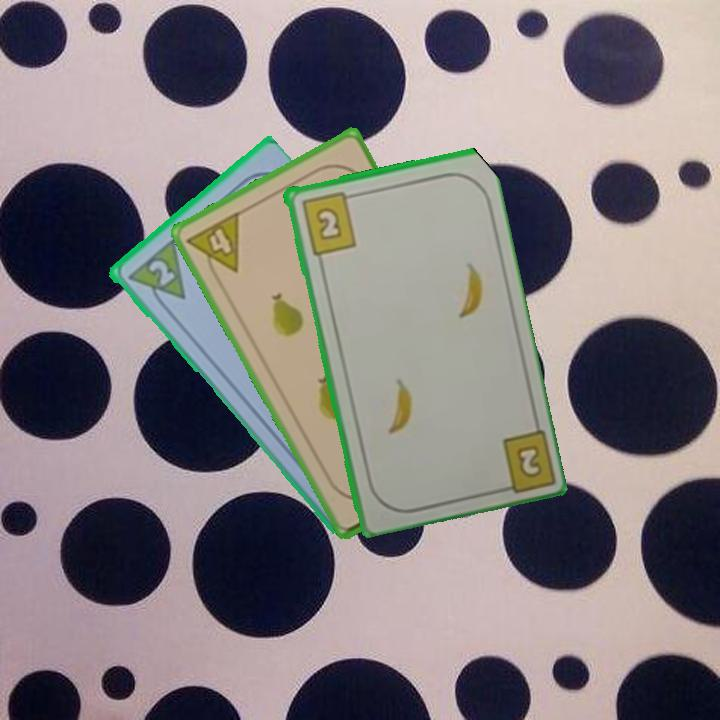2b: (491, 424, 555, 496), (297, 188, 359, 257)
2p: (122, 237, 189, 315)
4p: (183, 208, 243, 285)
